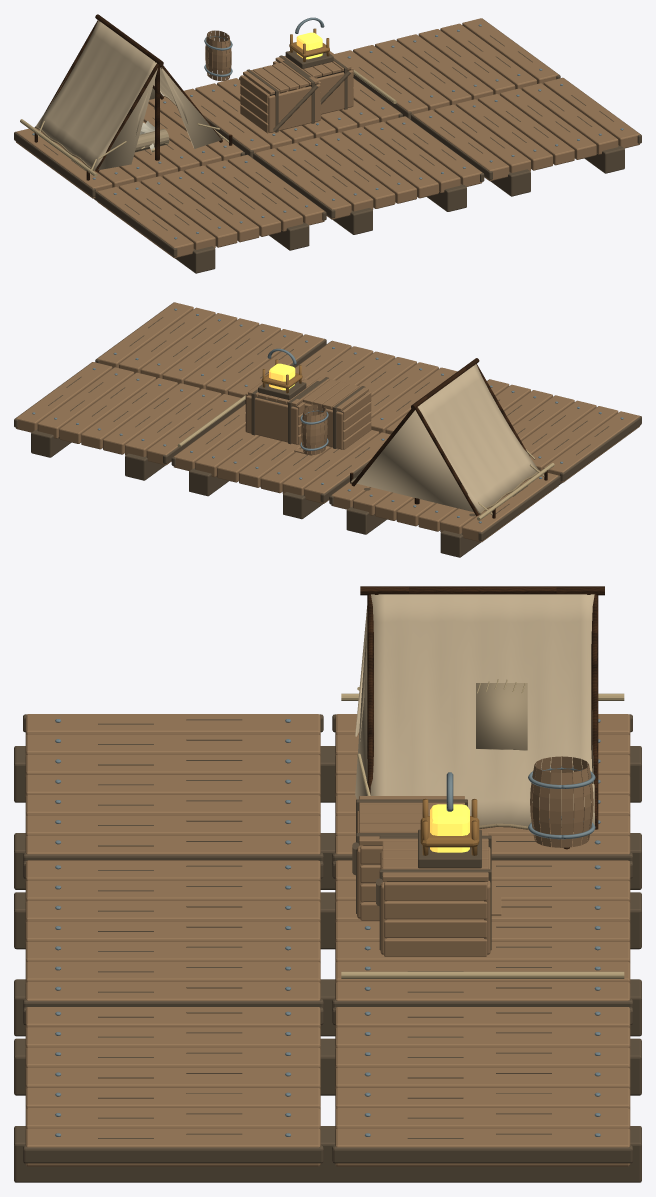
The model's file is raft_initial_v004.glb.
The picture shows the model from 3 angles, top to bottom: view 1: azimuth 30°, elevation 25°; view 2: azimuth 150°, elevation 25°; view 3: azimuth 270°, elevation 25°; orthographic projection. The views are drawn at different scales.
Visible parts, largest first — view 1: GEO-root-decor-2742.001, GEO-deck-intact-378.002, GEO-deck-intact-378.003, GEO-deck-intact-378.004, GEO-Tent-MAT-Tent-WaxedLinen.001, GEO-deck-intact-378.001, GEO-deck-intact-972.002, GEO-root-decor-2208.001, GEO-deck-intact-972.004, GEO-deck-intact-972.003, GEO-Tent-MAT-DarkTimber.001, GEO-deck-intact-972.001 (+6 smaller); view 2: GEO-root-decor-2742.001, GEO-Tent-MAT-Tent-WaxedLinen.001, GEO-deck-intact-378.001, GEO-deck-intact-378.004, GEO-deck-intact-378.002, GEO-deck-intact-378.003, GEO-root-decor-2208.001, GEO-deck-intact-972.001, GEO-Tent-MAT-DarkTimber.001, GEO-deck-intact-972.002, GEO-root-decor-1440.001, GEO-deck-intact-972.004 (+3 smaller); view 3: GEO-root-decor-2742.001, GEO-deck-intact-378.001, GEO-deck-intact-378.004, GEO-Tent-MAT-Tent-WaxedLinen.001, GEO-deck-intact-378.002, GEO-deck-intact-378.003, GEO-deck-intact-972.001, GEO-deck-intact-972.004, GEO-root-decor-2208.001, GEO-deck-intact-972.002, GEO-deck-intact-972.003, GEO-Tent-MAT-DarkTimber.001 (+6 smaller).
Boxes of the visible parts, box(x1,y1,x2,y2) form: GEO-root-decor-2742.001: box(16, 30, 400, 198); GEO-deck-intact-378.002: box(97, 155, 324, 258); GEO-deck-intact-378.003: box(255, 116, 482, 219); GEO-deck-intact-378.004: box(413, 78, 640, 181); GEO-Tent-MAT-Tent-WaxedLinen.001: box(36, 20, 223, 170); GEO-deck-intact-378.001: box(334, 18, 558, 114); GEO-deck-intact-972.002: box(95, 154, 326, 273); GEO-root-decor-2208.001: box(14, 55, 402, 201); GEO-deck-intact-972.004: box(411, 77, 641, 196); GEO-deck-intact-972.003: box(253, 117, 484, 234); GEO-Tent-MAT-DarkTimber.001: box(34, 14, 232, 180); GEO-deck-intact-972.001: box(353, 18, 560, 119); GEO-root-decor-2742.001: box(173, 377, 558, 542); GEO-Tent-MAT-Tent-WaxedLinen.001: box(351, 364, 538, 513); GEO-deck-intact-378.001: box(16, 362, 240, 465); GEO-deck-intact-378.004: box(97, 302, 324, 397); GEO-deck-intact-378.002: box(487, 379, 640, 482); GEO-deck-intact-378.003: box(295, 341, 457, 434); GEO-root-decor-2208.001: box(171, 377, 560, 557); GEO-deck-intact-972.001: box(14, 362, 244, 480); GEO-Tent-MAT-DarkTimber.001: box(350, 358, 547, 518); GEO-deck-intact-972.002: box(487, 379, 641, 485); GEO-root-decor-1440.001: box(177, 395, 554, 520); GEO-deck-intact-972.004: box(95, 302, 326, 403); GEO-root-decor-2742.001: box(335, 714, 630, 1000); GEO-deck-intact-378.001: box(335, 1007, 630, 1166); GEO-deck-intact-378.004: box(25, 1007, 320, 1166); GEO-Tent-MAT-Tent-WaxedLinen.001: box(355, 594, 594, 826); GEO-deck-intact-378.002: box(25, 714, 320, 854); GEO-deck-intact-378.003: box(25, 860, 320, 1000); GEO-deck-intact-972.001: box(326, 1007, 641, 1182); GEO-deck-intact-972.004: box(14, 1007, 329, 1182); GEO-root-decor-2208.001: box(326, 714, 641, 1036); GEO-deck-intact-972.002: box(14, 714, 329, 889); GEO-deck-intact-972.003: box(14, 861, 329, 1036); GEO-Tent-MAT-DarkTimber.001: box(360, 586, 604, 849).
Bounding box in the file's own units: 6.98 × 1.88 × 4.26.
Materials: 11 (1 with a texture image).
